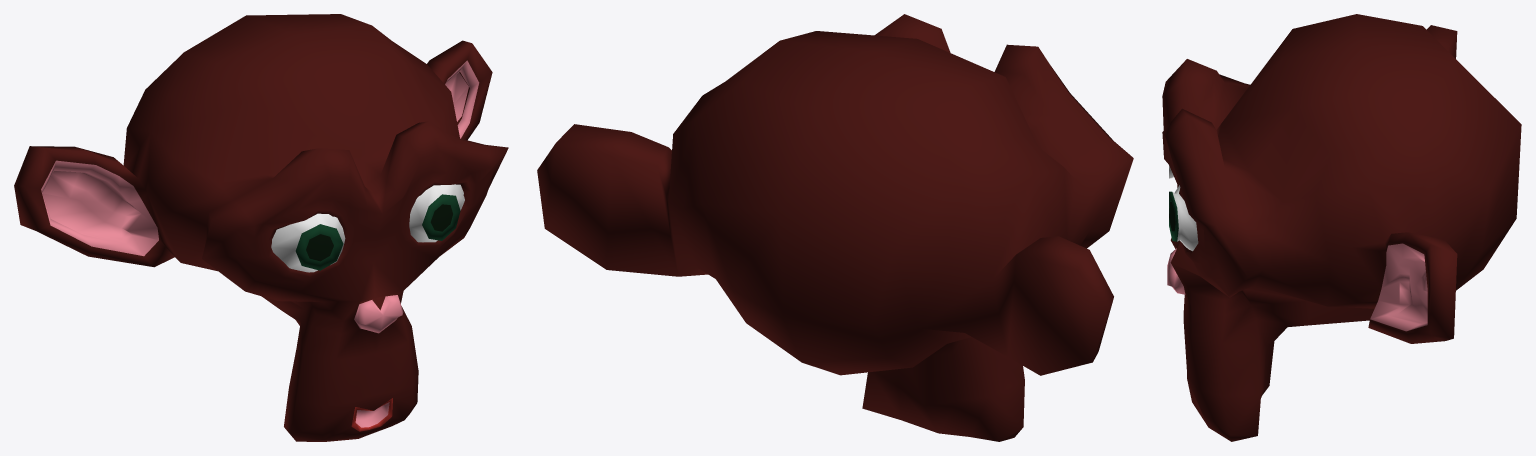
The model's file is asset.glb.
3 views of the same model, side by side, from view 1: azimuth 30°, elevation 25°; view 2: azimuth 150°, elevation 25°; view 3: azimuth 270°, elevation 25° (orthographic). The views are drawn at different scales.
Visible parts, largest first — view 1: Suzanne; view 2: Suzanne; view 3: Suzanne.
Boxes of the visible parts, left/top/right/bottom form: Suzanne: left=14, top=14, right=508, bottom=441; Suzanne: left=537, top=14, right=1133, bottom=441; Suzanne: left=1162, top=14, right=1521, bottom=441.
Bounding box in the file's own units: 2.73 × 1.97 × 1.7.
